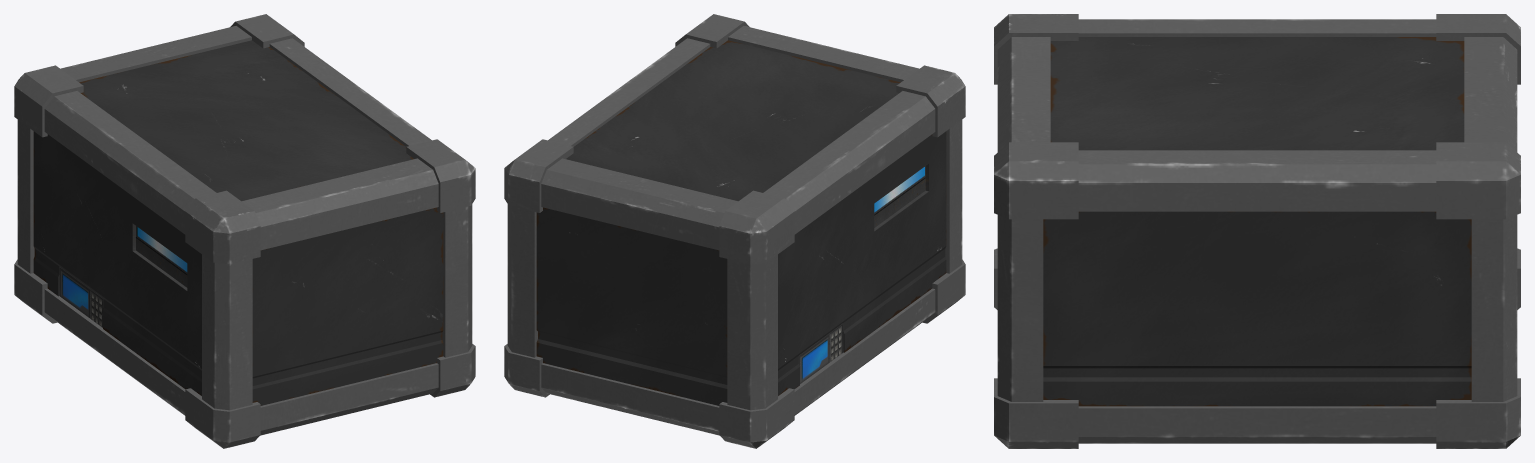
Rendered from switchgear.fbx.
The picture shows the model from 3 angles, left to right: view 1: azimuth 30°, elevation 25°; view 2: azimuth 150°, elevation 25°; view 3: azimuth 270°, elevation 25°; orthographic projection. The views are drawn at different scales.
Parts seen in each view (by area): view 1: switchgear:Plane002, switchgear:Plane005, switchgear:Plane004, switchgear:polySurface1, switchgear:polySurface2, switchgear:polySurface4, switchgear:polySurface3; view 2: switchgear:Plane002, switchgear:Plane006, switchgear:Plane004, switchgear:polySurface1, switchgear:polySurface2, switchgear:polySurface4, switchgear:polySurface3; view 3: switchgear:Plane003, switchgear:Plane002, switchgear:polySurface2, switchgear:polySurface4, switchgear:polySurface3, switchgear:polySurface1.
Boxes of the visible parts, box(x1,y1,x2,y2) form: switchgear:Plane002: box(79, 40, 413, 201); switchgear:Plane005: box(252, 207, 443, 405); switchgear:Plane004: box(33, 131, 201, 395); switchgear:polySurface1: box(60, 26, 438, 435); switchgear:polySurface2: box(44, 38, 431, 415); switchgear:polySurface4: box(14, 14, 475, 448); switchgear:polySurface3: box(17, 120, 472, 410); switchgear:Plane002: box(566, 40, 900, 201); switchgear:Plane006: box(536, 207, 727, 405); switchgear:Plane004: box(778, 131, 946, 395); switchgear:polySurface1: box(541, 26, 919, 435); switchgear:polySurface2: box(548, 38, 935, 415); switchgear:polySurface4: box(504, 14, 965, 448); switchgear:polySurface3: box(507, 120, 962, 410); switchgear:Plane003: box(1043, 211, 1471, 406); switchgear:Plane002: box(1050, 37, 1464, 150); switchgear:polySurface2: box(1078, 19, 1436, 443); switchgear:polySurface4: box(994, 14, 1520, 448); switchgear:polySurface3: box(997, 215, 1517, 401); switchgear:polySurface1: box(997, 37, 1517, 151).
Bounding box in the file's own units: 53.67 × 45.05 × 74.77.
1 material, 1 textured.
